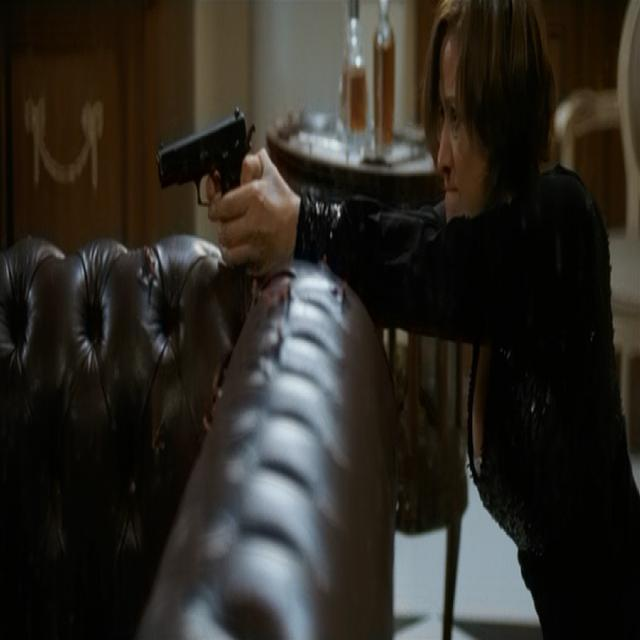gun-knife-thesis - v11 Yolov5 augmented: (155, 112, 258, 252)
